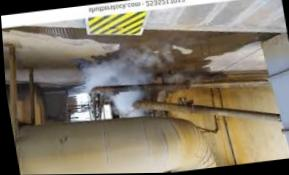leak: (67, 43, 201, 117)
